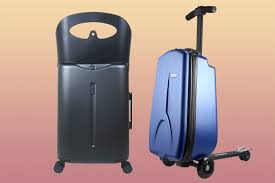suitcase: (143, 4, 252, 180), (50, 10, 136, 176)
